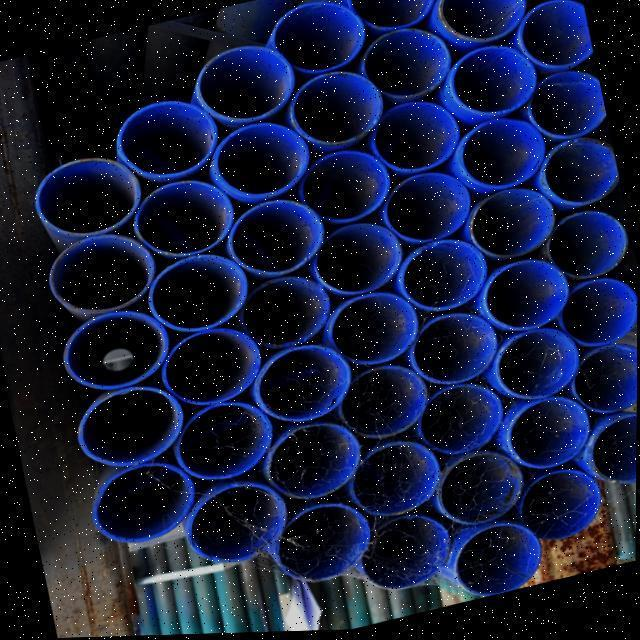pipe: (35, 160, 145, 253), (46, 235, 156, 325), (94, 459, 195, 548), (130, 183, 235, 262), (78, 392, 182, 471), (61, 314, 165, 393), (112, 103, 218, 180), (189, 50, 291, 130), (148, 256, 251, 333), (226, 203, 324, 282), (267, 425, 362, 506), (264, 3, 365, 79), (212, 126, 309, 205), (253, 348, 350, 427), (285, 73, 386, 148), (178, 404, 274, 482), (163, 334, 264, 408), (188, 489, 286, 565), (278, 506, 372, 583), (345, 444, 437, 520), (356, 31, 451, 103), (237, 277, 328, 352), (336, 368, 427, 443), (295, 152, 388, 225), (312, 224, 403, 298), (397, 242, 485, 318), (369, 104, 457, 178), (467, 191, 556, 264), (479, 260, 568, 333), (456, 121, 546, 193), (360, 519, 448, 592), (379, 174, 467, 247), (325, 296, 414, 368), (436, 453, 520, 529), (419, 387, 504, 462), (410, 319, 498, 390), (452, 530, 541, 600), (493, 331, 577, 404), (507, 401, 589, 475), (520, 471, 603, 544), (448, 48, 533, 119), (548, 215, 628, 286), (529, 73, 605, 145), (559, 285, 638, 354), (542, 142, 617, 214), (520, 2, 593, 71), (571, 346, 638, 421), (439, 0, 523, 44), (593, 420, 637, 490), (339, 0, 430, 33)
